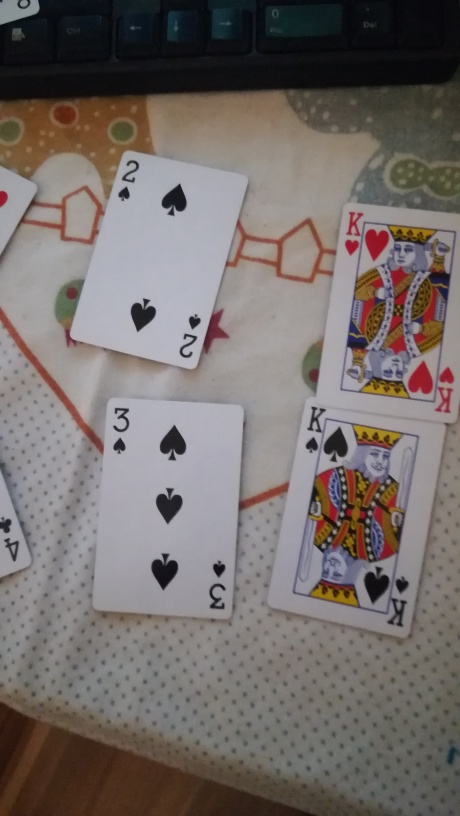ht 2: (53, 126, 254, 384)
ht 3: (67, 392, 258, 629)
ht k: (261, 406, 450, 649)
hx k: (305, 188, 460, 411)
